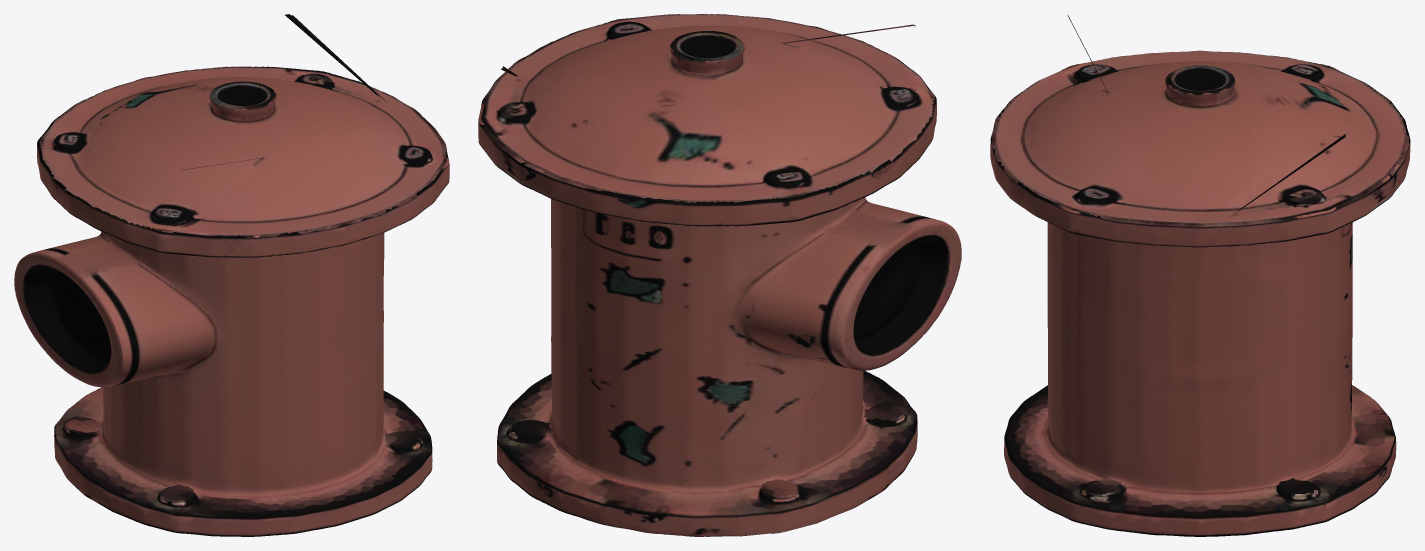
Rendered from street-hydrant.glb.
3 views of the same model, side by side, from view 1: azimuth 30°, elevation 25°; view 2: azimuth 150°, elevation 25°; view 3: azimuth 270°, elevation 25° (orthographic). The views are drawn at different scales.
Visible parts, largest first — view 1: tmpkn18rps2.ply; view 2: tmpkn18rps2.ply; view 3: tmpkn18rps2.ply.
Boxes of the visible parts, x1,y1,x2,y2 form: tmpkn18rps2.ply: (14,14,449,536); tmpkn18rps2.ply: (478,14,961,536); tmpkn18rps2.ply: (990,15,1410,536).
Bounding box in the file's own units: 1 × 1 × 1.
Materials: 1 (1 with a texture image).
